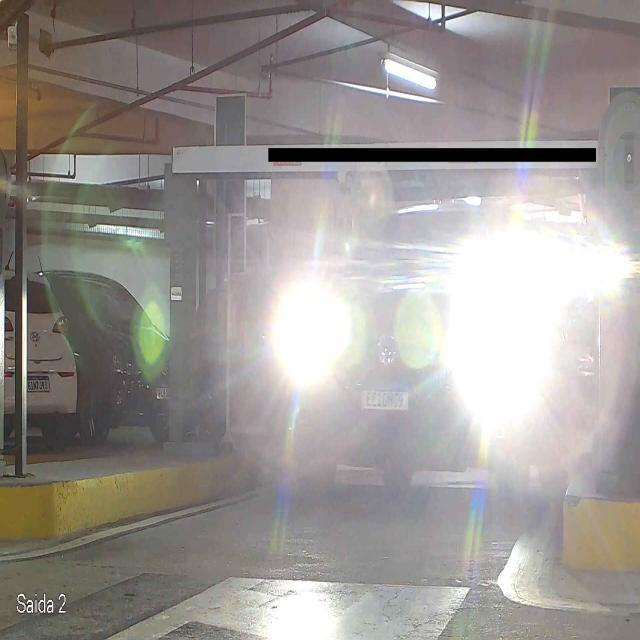mercosul_plate: (359, 383, 411, 412)
